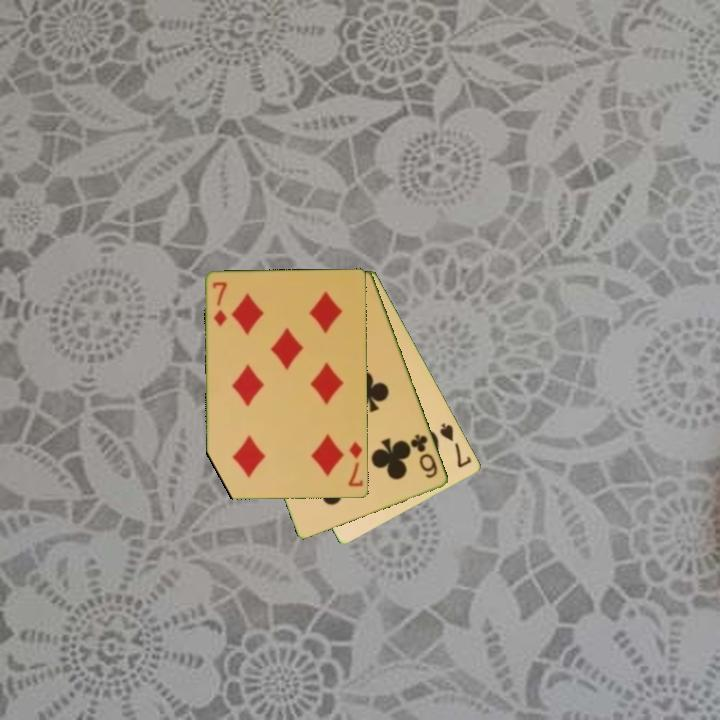6c: (407, 431, 441, 481)
7d: (209, 279, 230, 330), (345, 439, 366, 489)
7s: (436, 420, 475, 471)
